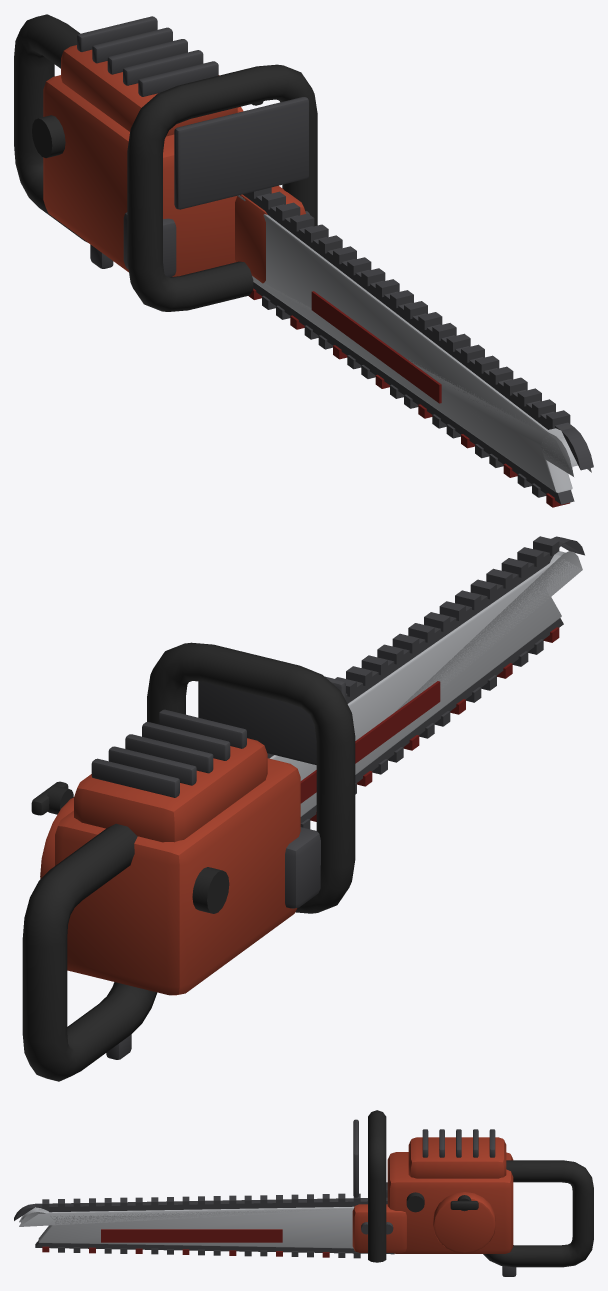
The model's file is ogre-chainsaw.glb.
3 views of the same model, one above another, from view 1: azimuth 30°, elevation 25°; view 2: azimuth 150°, elevation 25°; view 3: azimuth 270°, elevation 25° (orthographic). The views are drawn at different scales.
Visible parts, largest first — view 1: OgreChainsaw; view 2: OgreChainsaw; view 3: OgreChainsaw.
Boxes of the visible parts, x1,y1,x2,y2 form: OgreChainsaw: (14, 14, 593, 507); OgreChainsaw: (22, 536, 584, 1081); OgreChainsaw: (14, 1110, 593, 1276).
Bounding box in the file's own units: 0.183 × 0.239 × 0.8296.
